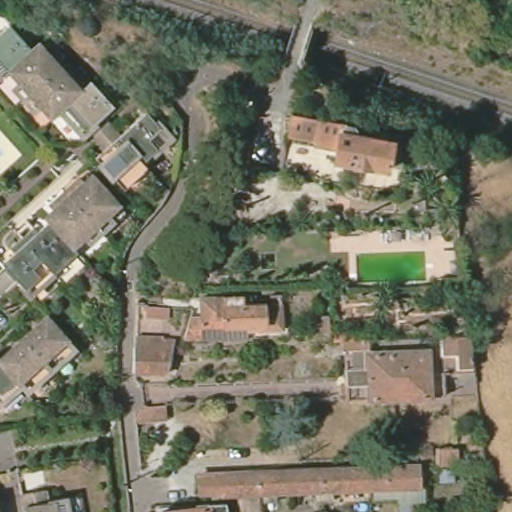pool: (352, 247, 429, 287)
